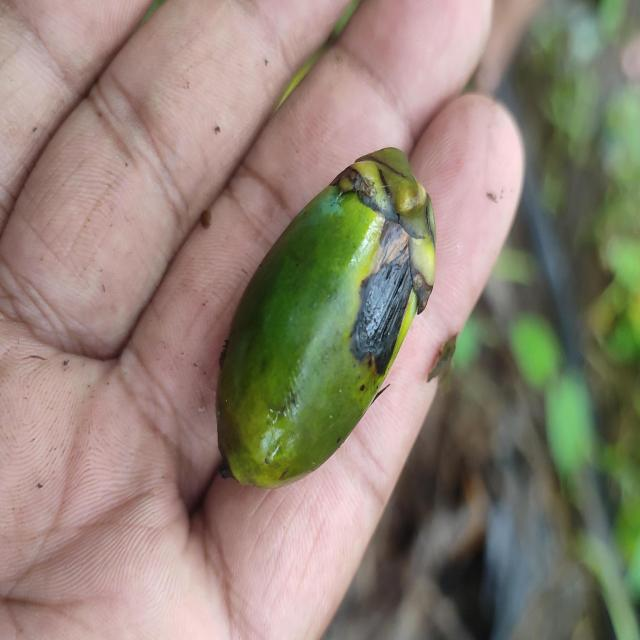damaged: (214, 147, 439, 490)
